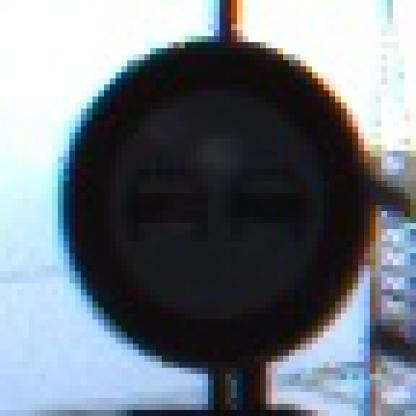No Overtaking: (42, 37, 383, 381)
